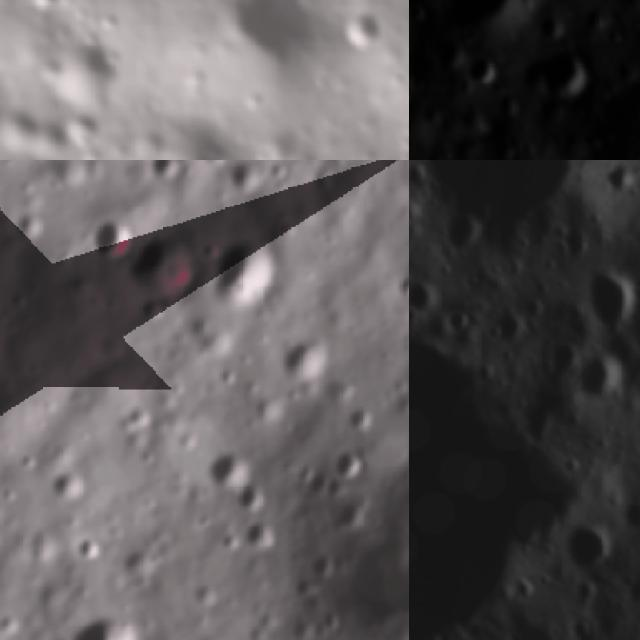crater: (201, 0, 329, 83), (322, 532, 409, 640), (40, 40, 128, 119), (211, 230, 284, 310), (130, 230, 203, 301), (572, 342, 634, 409), (443, 0, 532, 40), (538, 40, 593, 104), (586, 263, 640, 328), (335, 0, 392, 58), (272, 336, 332, 391), (558, 524, 618, 579), (203, 435, 254, 493), (87, 210, 140, 264), (439, 211, 486, 271), (63, 614, 155, 640), (45, 464, 94, 507), (11, 207, 51, 246), (330, 445, 368, 486), (340, 398, 381, 436), (243, 516, 278, 554), (464, 50, 498, 89), (236, 477, 268, 517), (119, 402, 153, 439), (226, 160, 263, 193), (72, 530, 104, 568), (578, 4, 610, 41), (20, 0, 80, 17), (147, 160, 188, 180), (388, 268, 409, 305), (0, 611, 26, 636), (201, 160, 232, 166)
